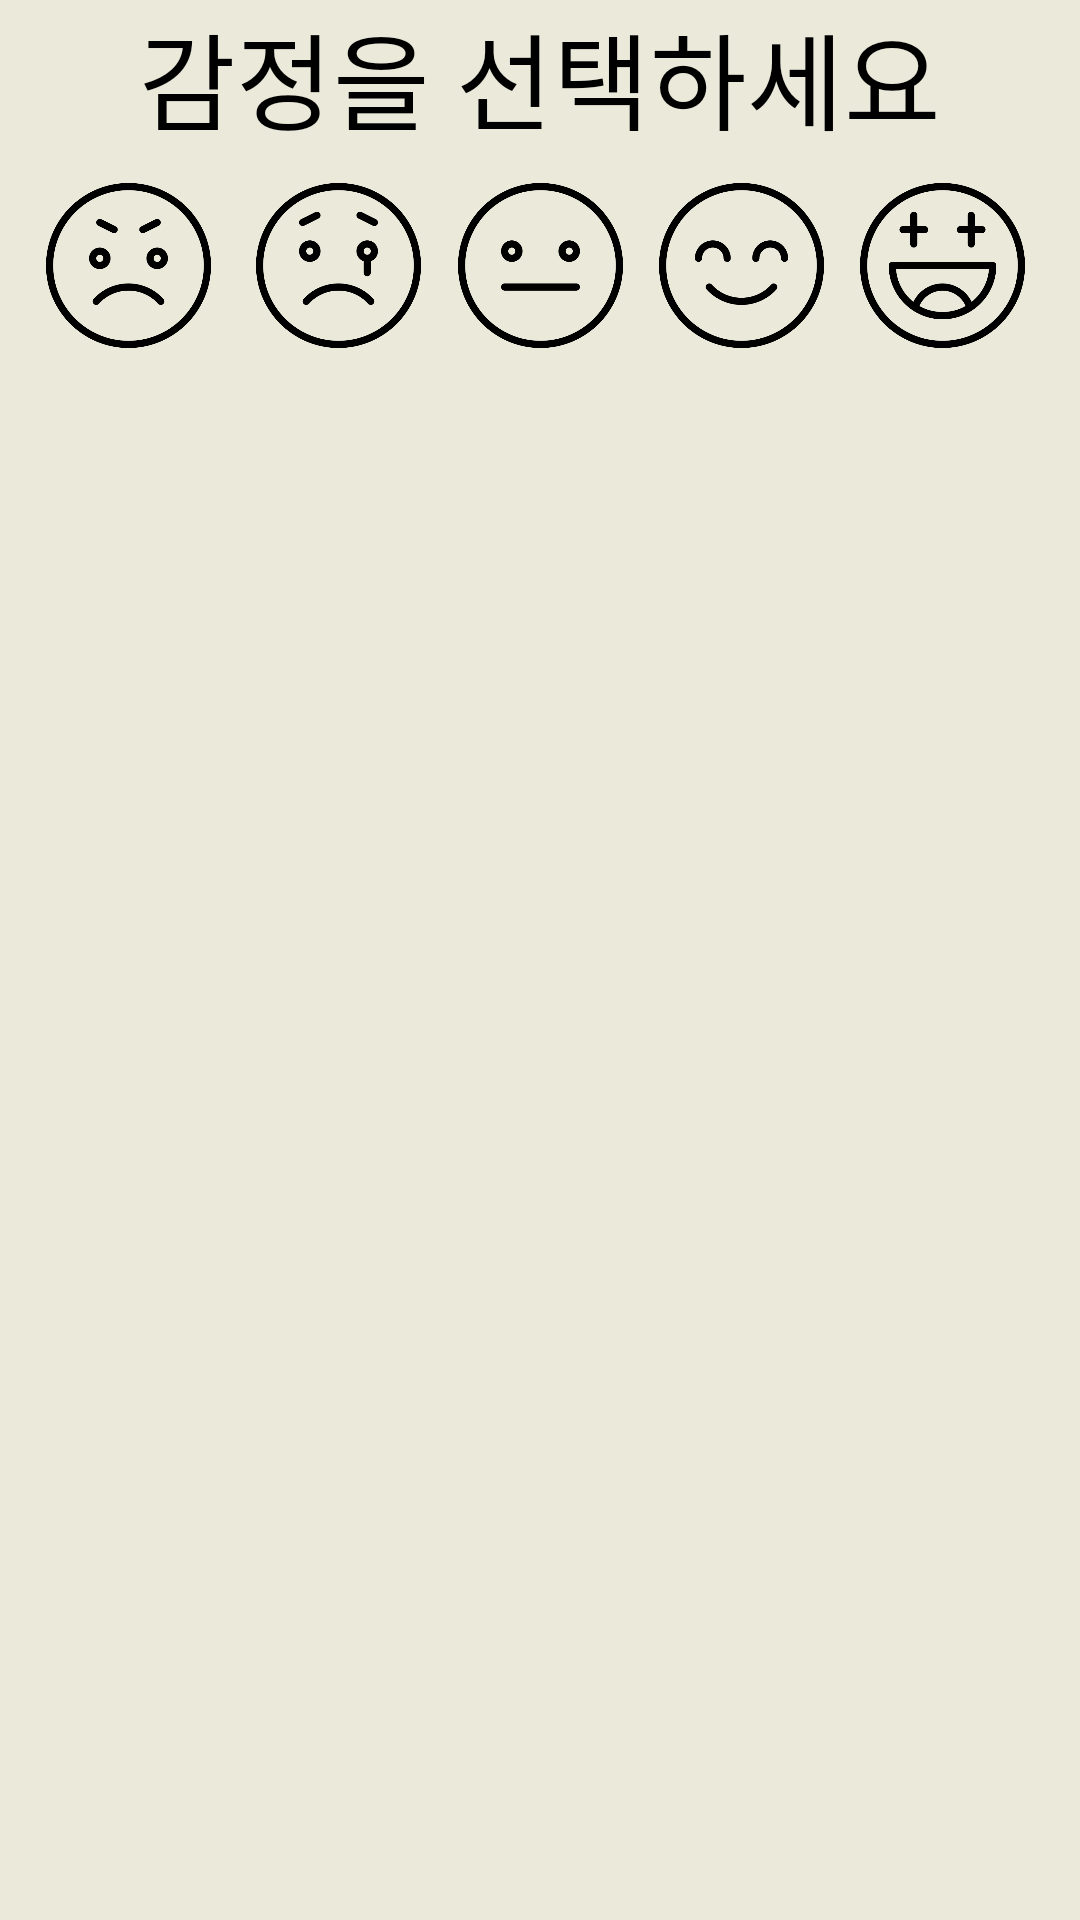

Point at icon controls on the screen. Image size 1080px×1920px, points as (x,y).
angry: (128,265)
happy: (741,265)
sad: (338,265)
